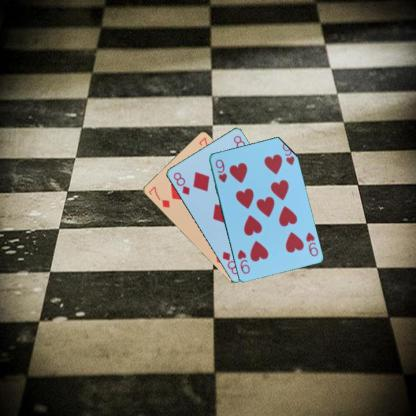7d: (146, 184, 171, 209)
8d: (170, 169, 191, 196)
9h: (303, 229, 319, 258), (213, 156, 228, 184)
